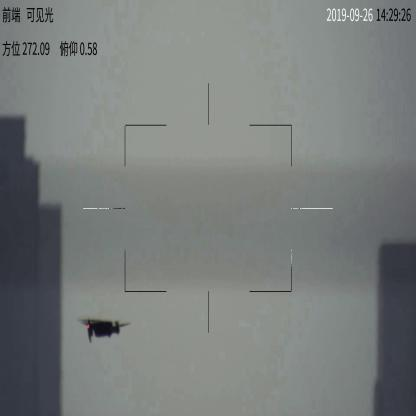uav: (76, 313, 126, 340)
